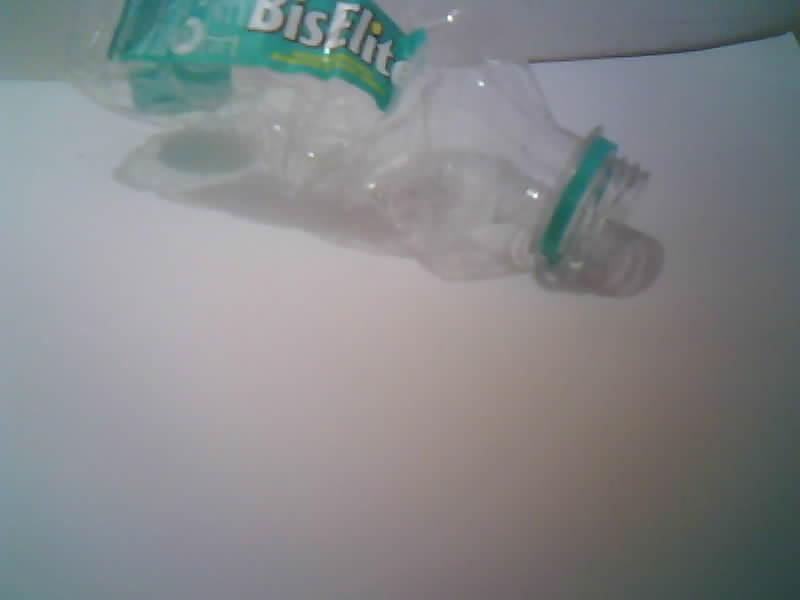non-biodegradable: (68, 0, 654, 294)
